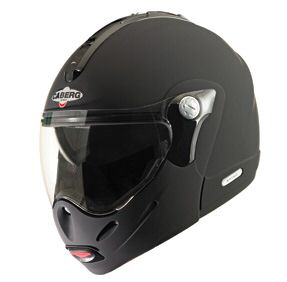helmet: (38, 18, 266, 240)
